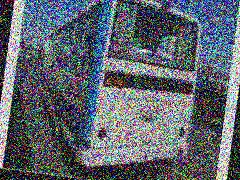bus: (28, 0, 210, 180)
